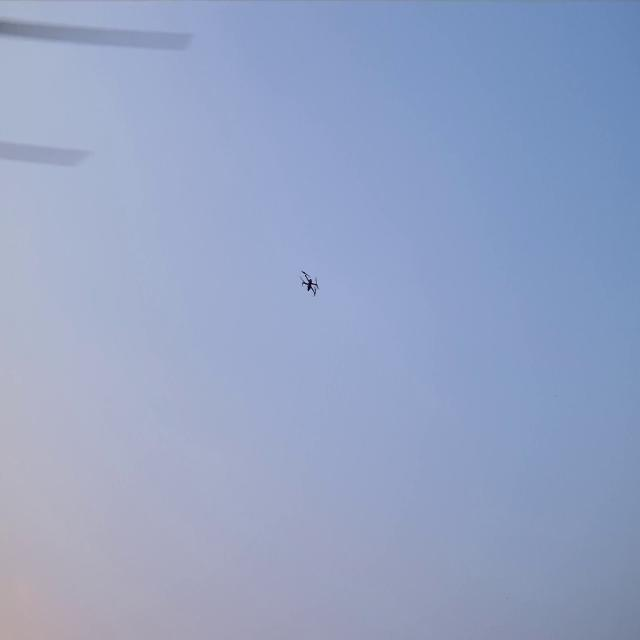UAV: (299, 269, 319, 298)
